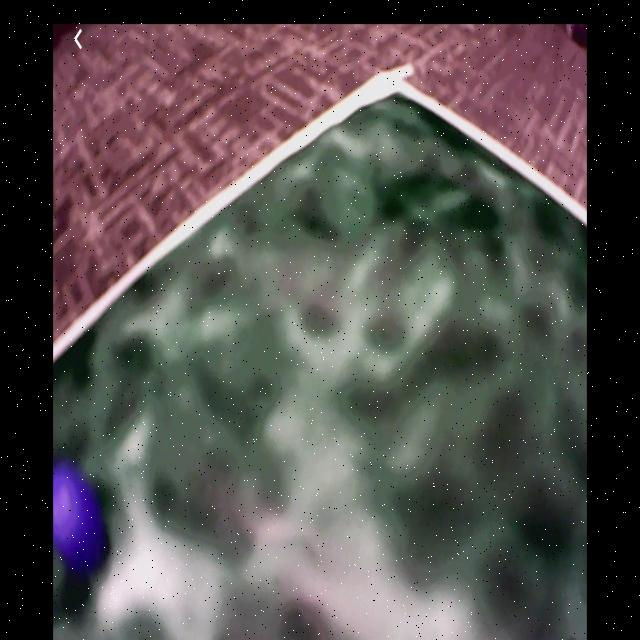ball: (55, 468, 103, 569)
